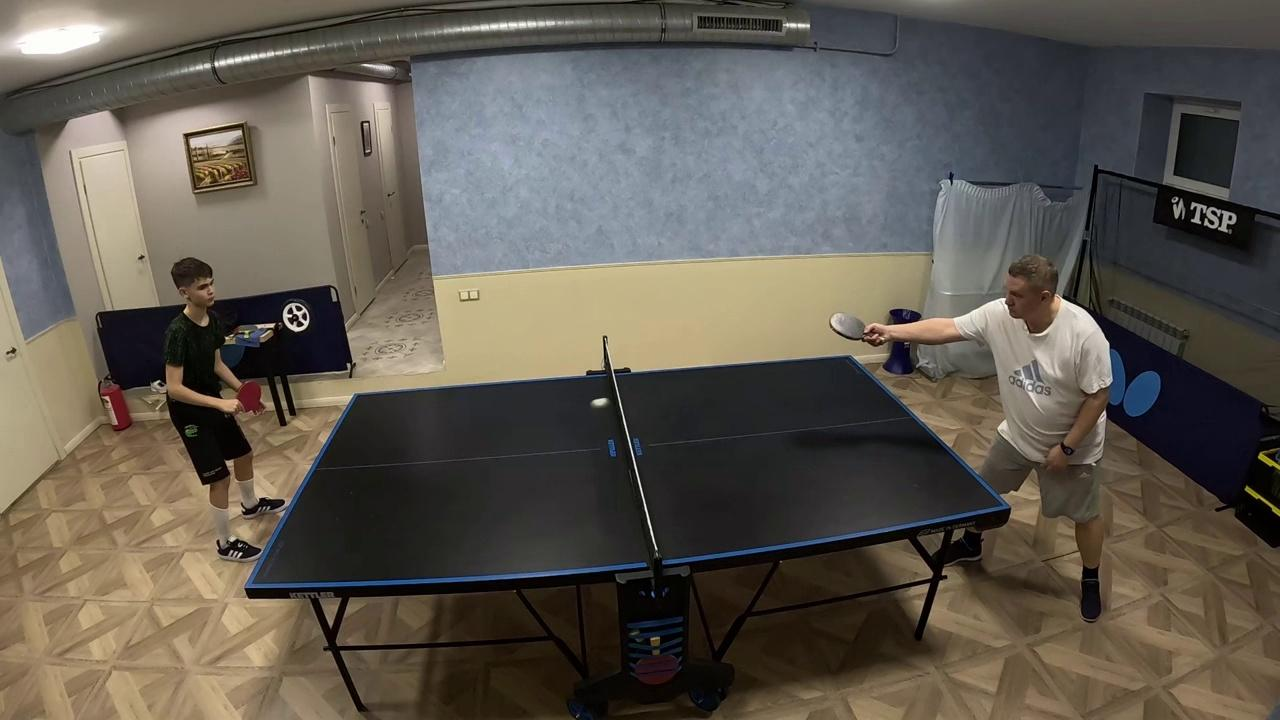Ball: (590, 397, 612, 412)
Net: (602, 336, 666, 598)
Player1: (165, 257, 262, 560)
Player2: (970, 255, 1111, 621)
Table: (246, 372, 648, 594), (617, 357, 1009, 571)
